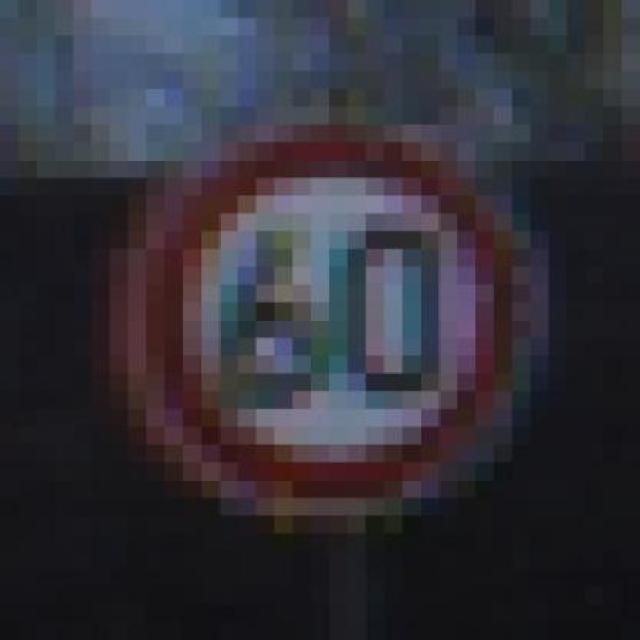forb_speed_over_60: (134, 126, 529, 509)
